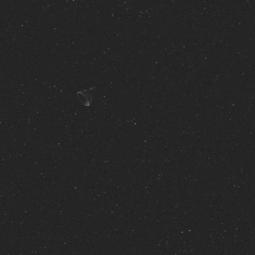debris: (72, 87, 107, 107)
